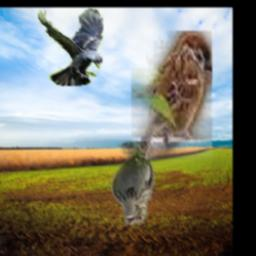Crow: (37, 7, 104, 86)
Sparrow: (132, 32, 213, 160), (112, 142, 156, 226)
